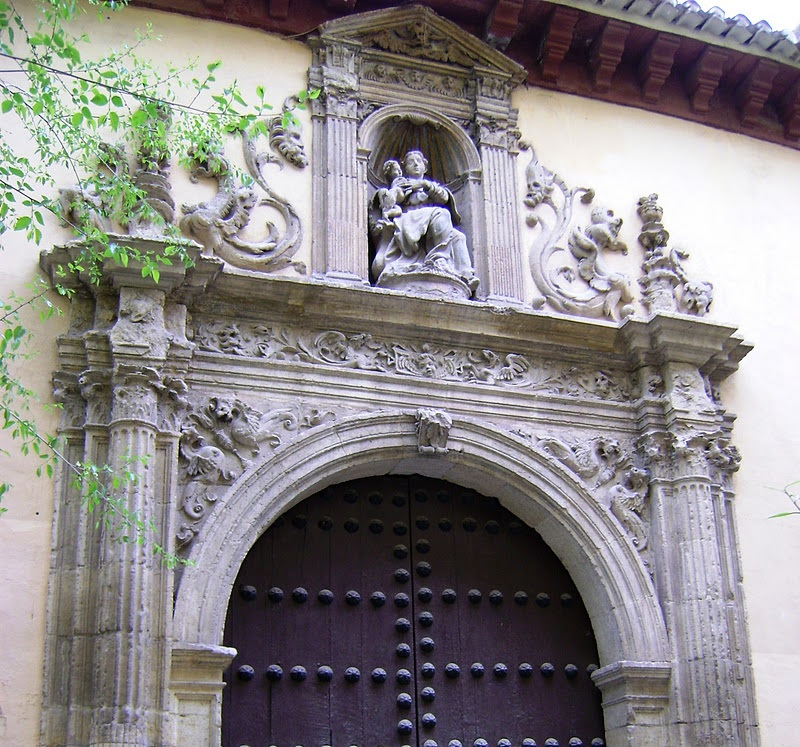arco-medio-punto: (203, 430, 642, 708)
fronton: (314, 1, 532, 83)
